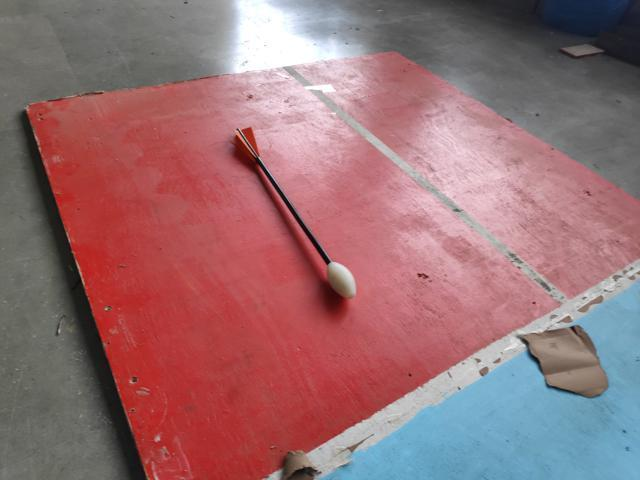Head: (326, 257, 358, 302)
Tail: (227, 125, 262, 161)
